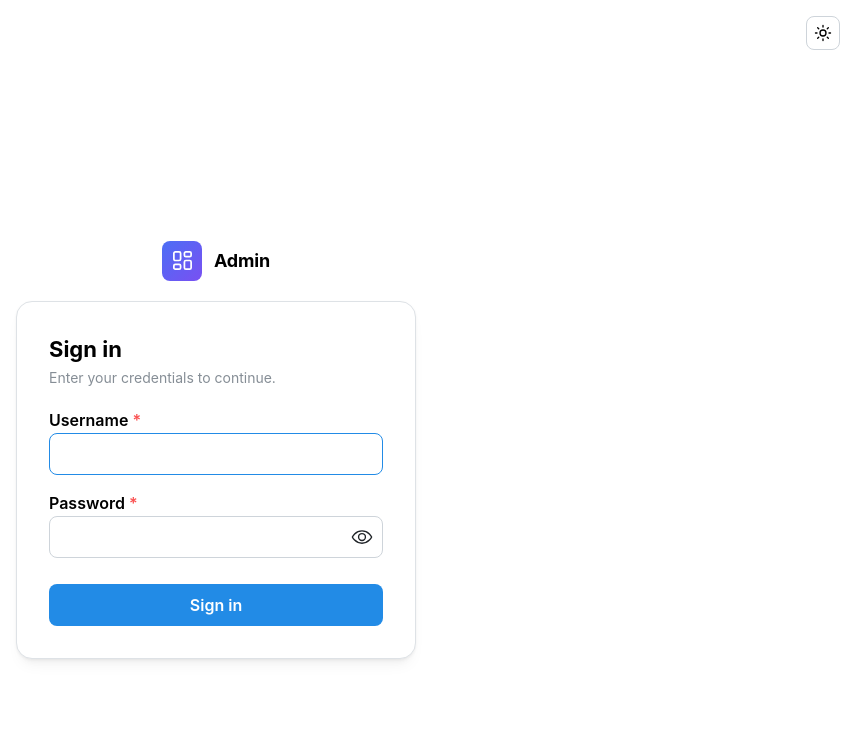
it: a challenged sign-in › shows a wrong code and lets the person start over
This screenshot has width=856, height=745.
Type "root" into the field labelled "Username *" at (216, 454), box [49, 433, 383, 475]
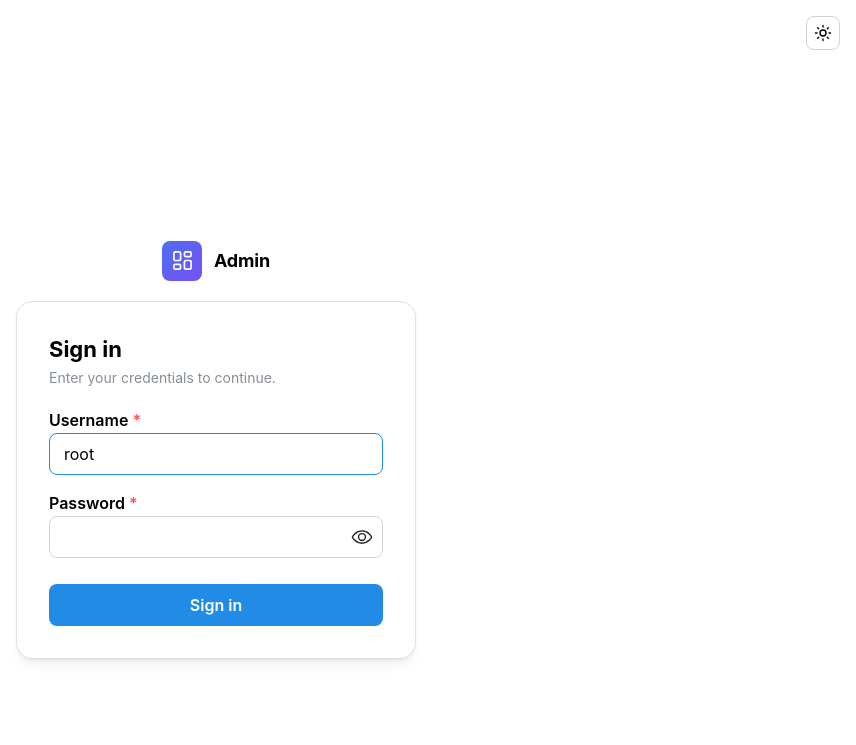
Type "hunter2" into the password field labelled "Password *" at (216, 537), box [50, 517, 382, 557]
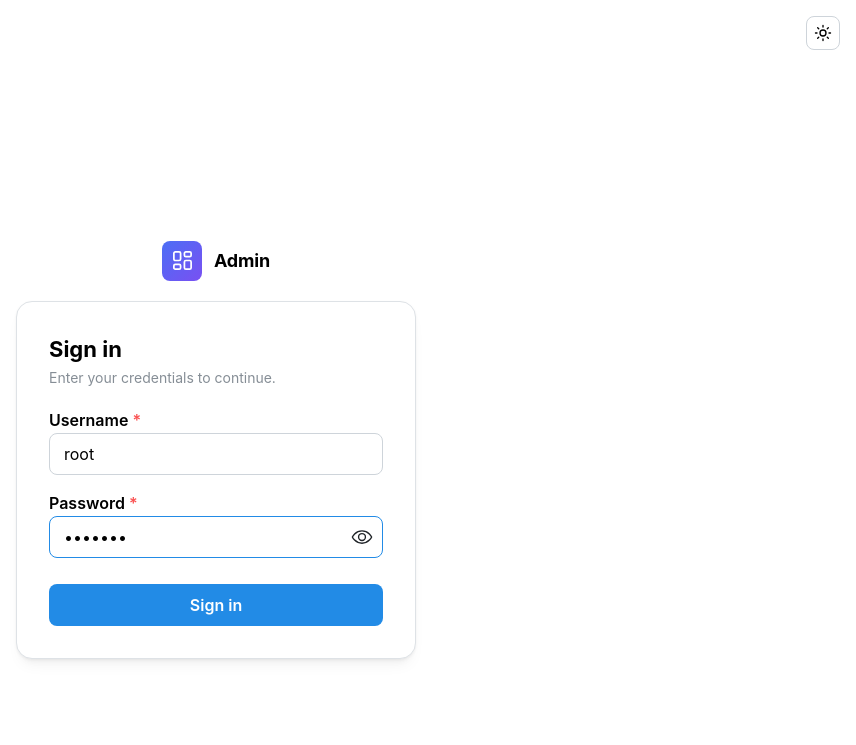
Click the button "Sign in" at (216, 605), box [49, 584, 383, 626]
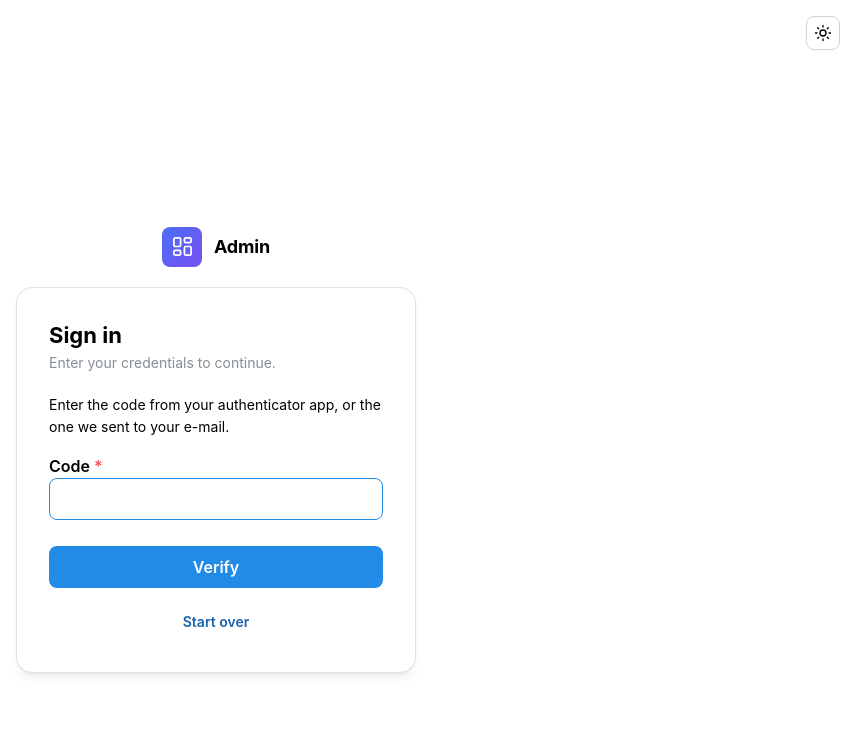
Type "000000" into the field labelled "Code *" at (216, 499), box [49, 478, 383, 520]
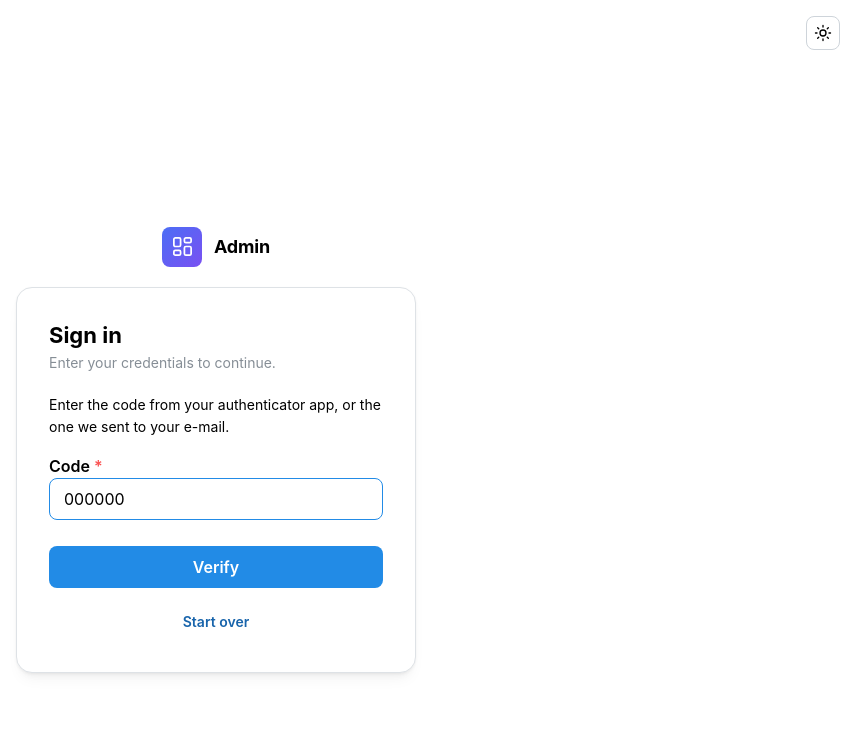
Click the button "Verify" at (216, 567), box [49, 546, 383, 588]
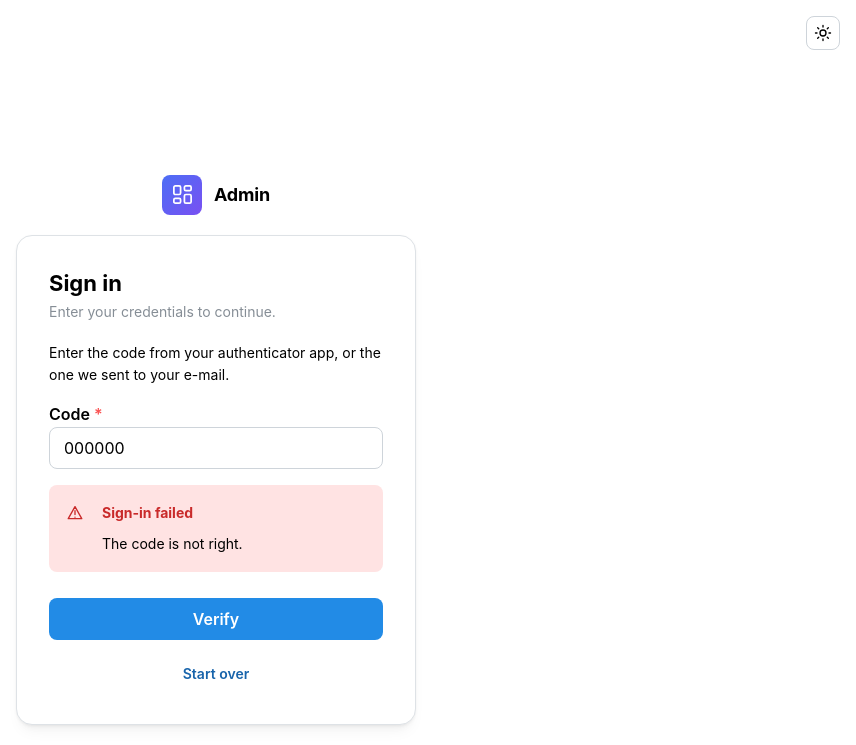
Check: the text "The code is not right." is shown, box [102, 535, 243, 552]
Click the button "Start over" at (216, 674), box [49, 656, 383, 692]
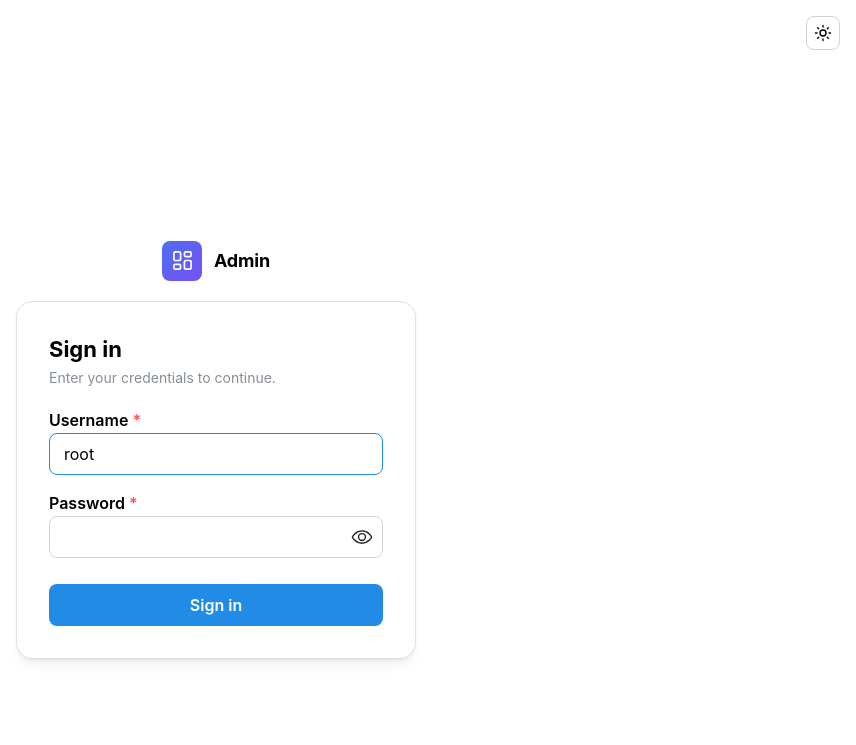
Check: the password field labelled "Password *" is shown, box [50, 517, 382, 557]
